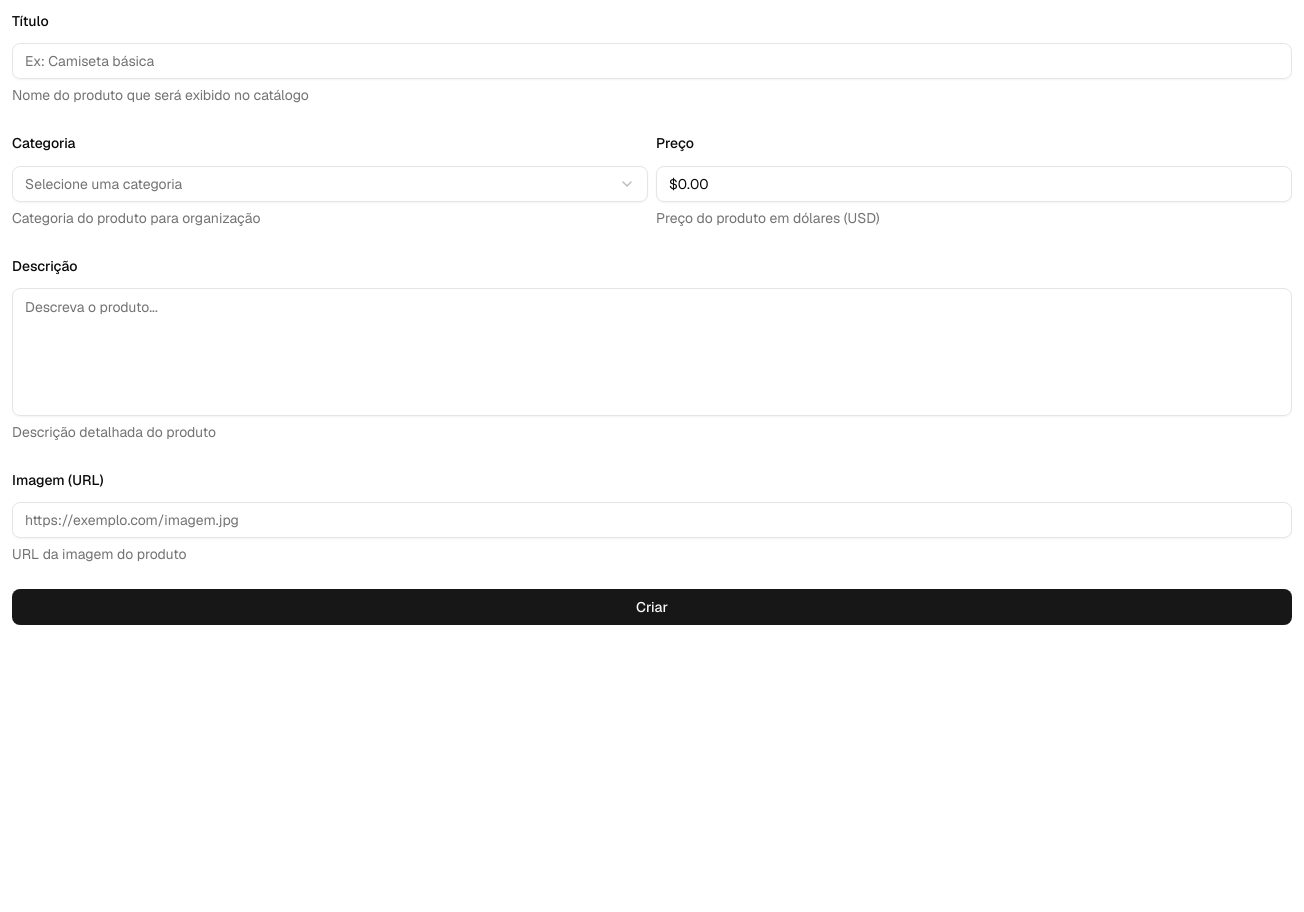
ProductForm › Modo Criação › deve validar título com menos de 3 caracteres
Type "AB" into the field labelled "Título". click: (652, 61)
box: left=12, top=43, right=1292, bottom=79
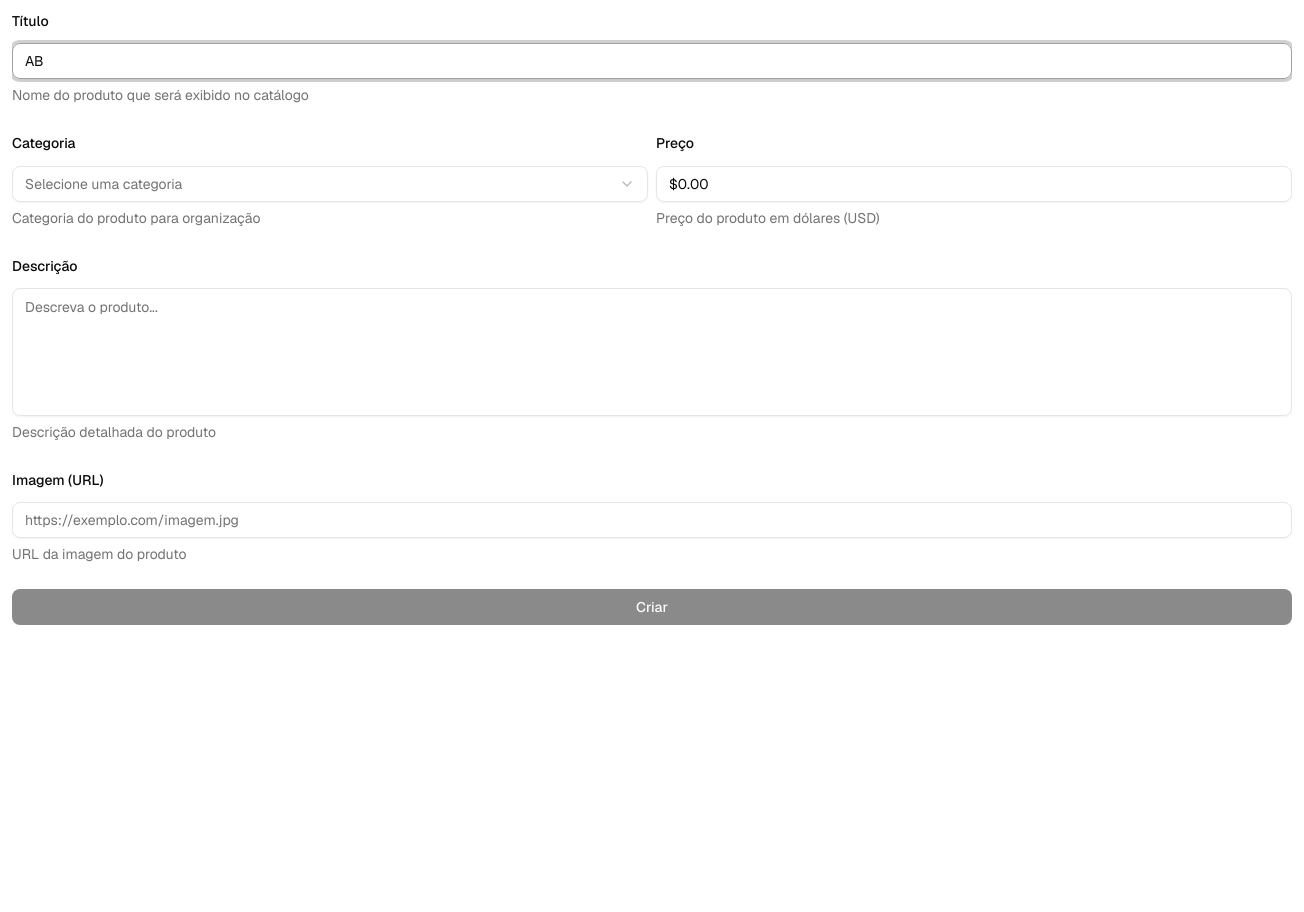
Press Tab
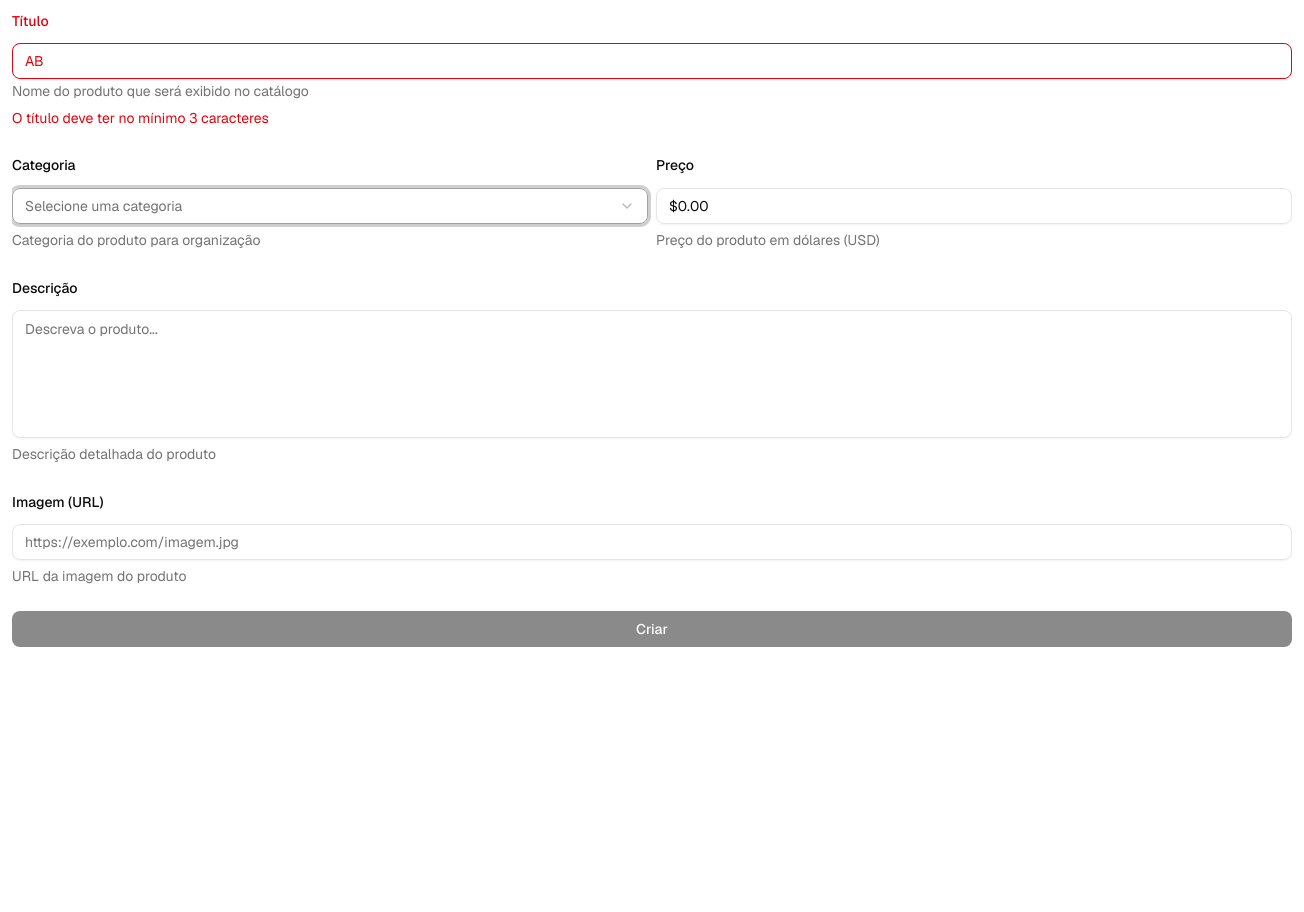
Expected: the text "O título deve ter no mínimo 3 caracteres" is shown, left=12, top=109, right=269, bottom=127
